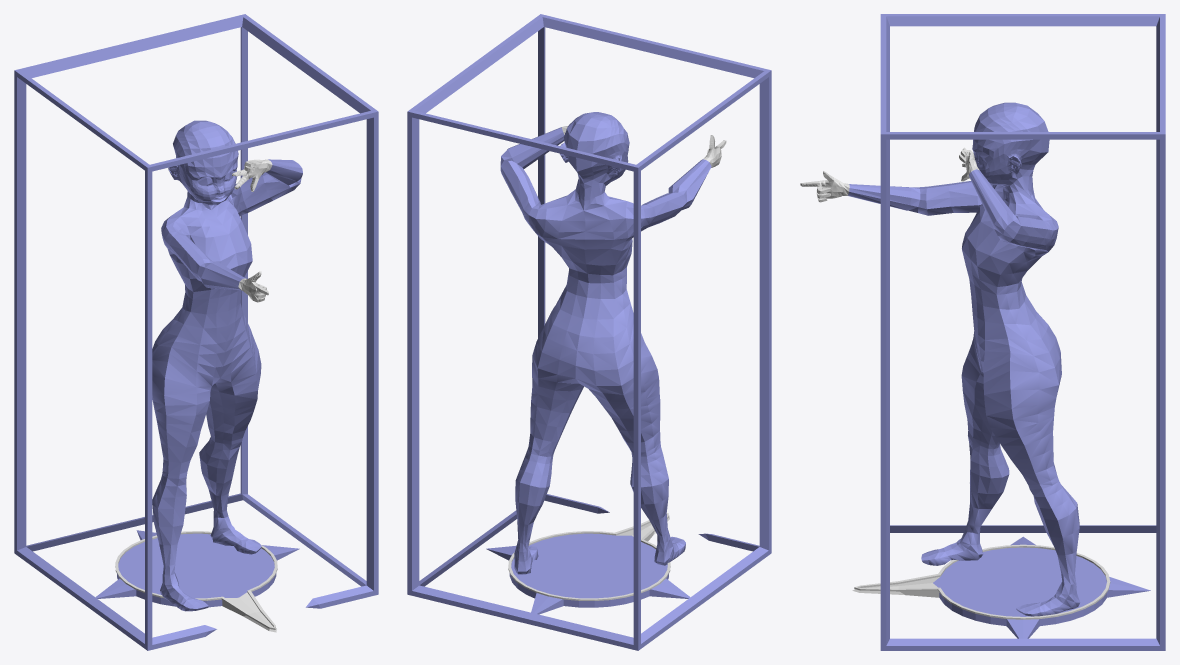
The model's file is BuilderObj_SpawnPosition.glb.
3 views of the same model, side by side, from view 1: azimuth 30°, elevation 25°; view 2: azimuth 150°, elevation 25°; view 3: azimuth 270°, elevation 25° (orthographic). The views are drawn at different scales.
Parts seen in each view (by area): view 1: PlaceholderModel, Cube, Pedestal; view 2: PlaceholderModel, Cube, Pedestal; view 3: PlaceholderModel, Cube, Pedestal.
Part boxes in pixels (<box>): PlaceholderModel: <box>152,120,302,611</box>; Cube: <box>14,14,378,650</box>; Pedestal: <box>95,530,299,632</box>; PlaceholderModel: <box>500,112,726,574</box>; Cube: <box>407,14,771,650</box>; Pedestal: <box>486,513,690,614</box>; PlaceholderModel: <box>800,102,1080,616</box>; Cube: <box>880,14,1165,650</box>; Pedestal: <box>852,536,1150,638</box>.
Size of the model in its own units: 1 by 2 by 1.28.
